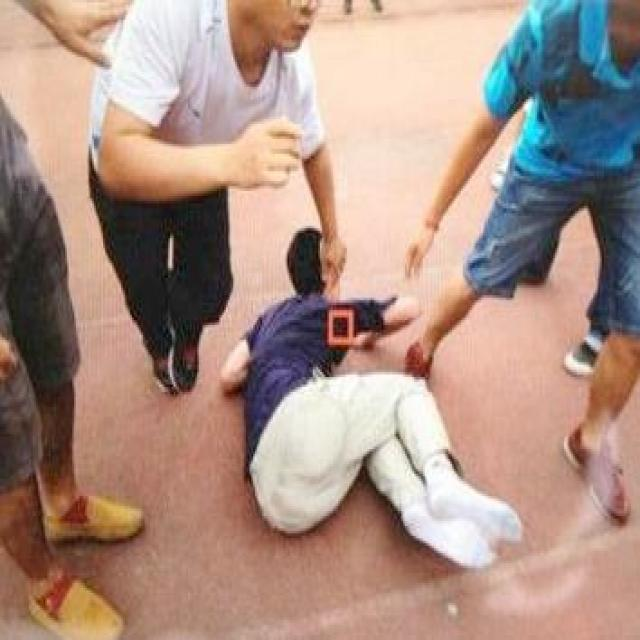fall: (228, 240, 517, 570)
